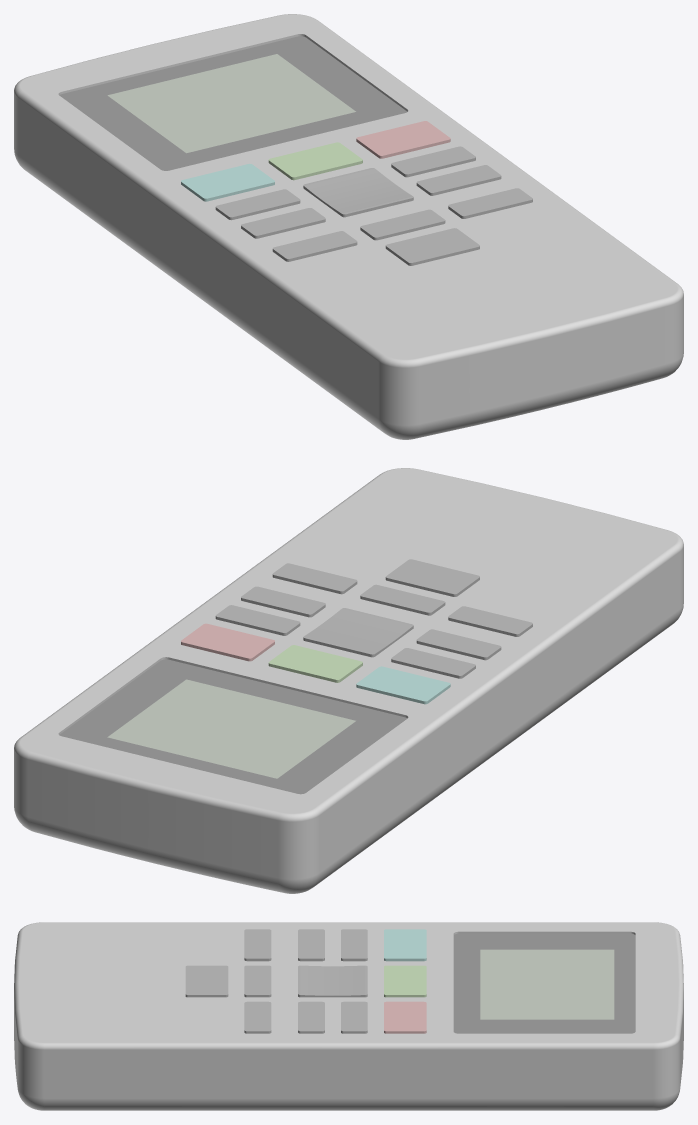
Rendered from 034_リモコン.glb.
3 views of the same model, one above another, from view 1: azimuth 30°, elevation 25°; view 2: azimuth 150°, elevation 25°; view 3: azimuth 270°, elevation 25° (orthographic). The views are drawn at different scales.
Visible parts, largest first — view 1: Body; view 2: Body; view 3: Body.
Part boxes in pixels (left/top/right/bottom): Body: left=14, top=14, right=683, bottom=439; Body: left=14, top=468, right=683, bottom=893; Body: left=14, top=922, right=683, bottom=1110.
Size of the model in its own units: 0.055 by 0.0155 by 0.125.
